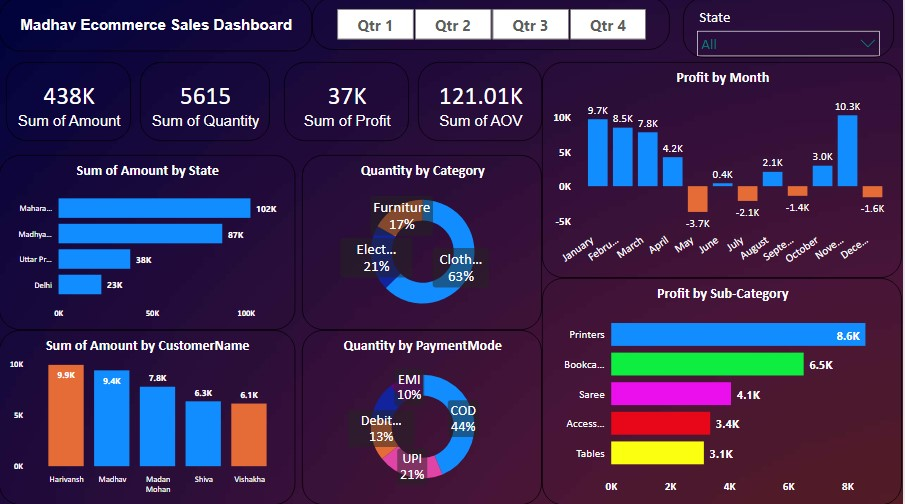

This screenshot's page, from the dashboard's own definition file:
{"tool":"powerbi","page":{"name":"Page 1","canvas":[1280,720],"ordinal":0},"visuals":[{"type":"textbox","box":[0,0,443.6,76.5],"z":0},{"type":"clusteredColumnChart","title":"Profit by Month","fields":{"Category":["Orders.Order Date.Variation.Date Hierarchy.Month"],"Y":["Sum(Details.Profit)"]},"box":[769.6,92.1,510.2,306.1],"z":1000},{"type":"clusteredBarChart","title":" Profit by Sub-Category","fields":{"Category":["Details.Sub-Category"],"Y":["Sum(Details.Profit)"]},"box":[769.6,398.3,510.2,321.7],"z":2000},{"type":"donutChart","title":"Quantity by Category","fields":{"Category":["Details.Category"],"Y":["Sum(Details.Quantity)"]},"box":[429.4,223.9,340.2,248],"z":3000},{"type":"donutChart","title":"Quantity by PaymentMode","fields":{"Category":["Details.PaymentMode"],"Y":["Sum(Details.Quantity)"]},"box":[429.4,472,340.2,248],"z":4000},{"type":"card","fields":{"Values":["Sum(Details.Amount)"]},"box":[9.9,92.1,177.2,112],"z":5000},{"type":"card","fields":{"Values":["Sum(Details.Quantity)"]},"box":[199.8,92.1,184.3,112],"z":6000},{"type":"card","fields":{"Values":["Sum(Details.Profit)"]},"box":[403.9,92.1,177.2,112],"z":7000},{"type":"card","fields":{"Values":["Sum(Details.Aov)"]},"box":[593.9,92.1,175.7,112],"z":8000},{"type":"clusteredBarChart","fields":{"Category":["Orders.State"],"Y":["Sum(Details.Amount)"]},"box":[0,223.9,419.5,248],"z":9000},{"type":"columnChart","fields":{"Category":["Orders.CustomerName"],"Y":["Sum(Details.Amount)"]},"box":[0,472,419.5,248],"z":10000},{"type":"slicer","fields":{"Values":["Orders.Order Date.Variation.Date Hierarchy.Quarter"]},"box":[443.6,0,507.4,75.1],"z":11000},{"type":"slicer","fields":{"Values":["Orders.State"]},"box":[969.4,0,299.1,86.5],"z":12000}]}

Visuals, with their boxes in screenshot pixels (x1, y1, x2, y2), scaled from the page's 1280x720 canvas onto the 905x504 screenshot:
textbox: 0, 0, 314, 54
"Profit by Month" clusteredColumnChart: 544, 64, 904, 279
" Profit by Sub-Category" clusteredBarChart: 544, 279, 904, 503
"Quantity by Category" donutChart: 304, 157, 544, 330
"Quantity by PaymentMode" donutChart: 304, 330, 544, 503
card - Sum(Details.Amount): 7, 64, 132, 143
card - Sum(Details.Quantity): 141, 64, 272, 143
card - Sum(Details.Profit): 286, 64, 411, 143
card - Sum(Details.Aov): 420, 64, 544, 143
clusteredBarChart - Orders.State x Sum(Details.Amount): 0, 157, 297, 330
columnChart - Orders.CustomerName x Sum(Details.Amount): 0, 330, 297, 503
slicer - Orders.Order Date.Variation.Date Hierarchy.Quarter: 314, 0, 672, 53
slicer - Orders.State: 685, 0, 897, 61
